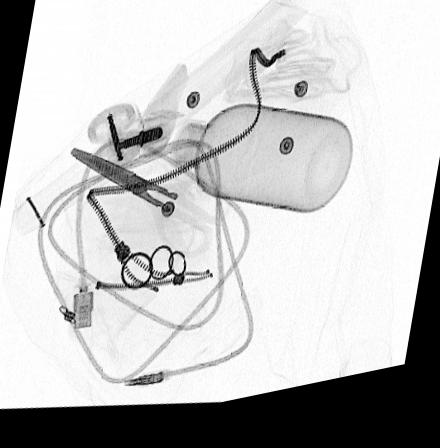Scissors: (64, 145, 225, 270)
